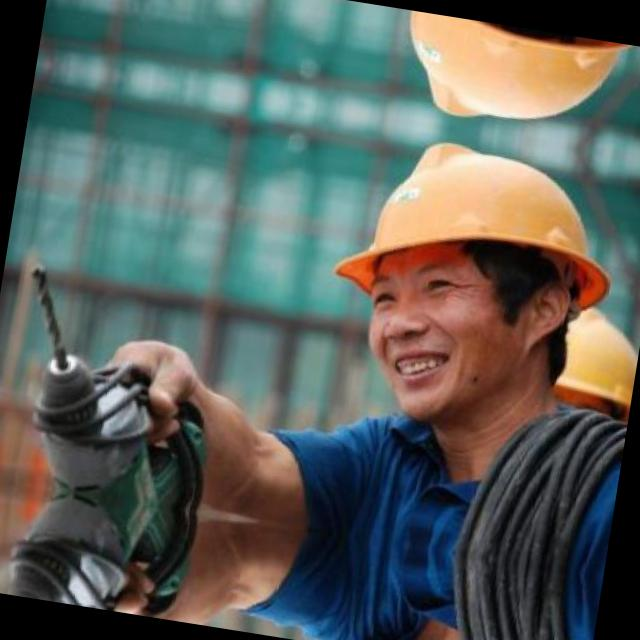helmet: (286, 112, 630, 476), (336, 1, 640, 157)
